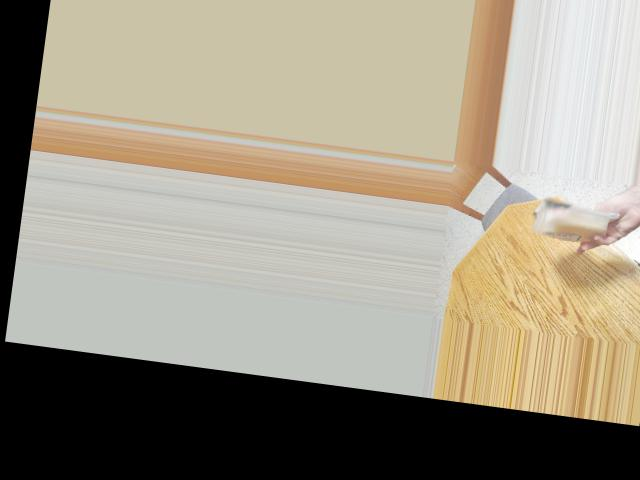cheese: (532, 190, 613, 254)
